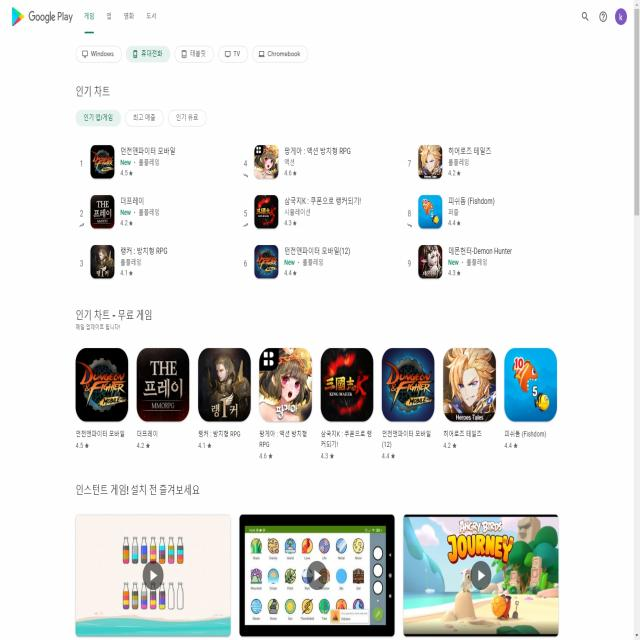menu-bar: (80, 3, 161, 34), (576, 5, 629, 28)
